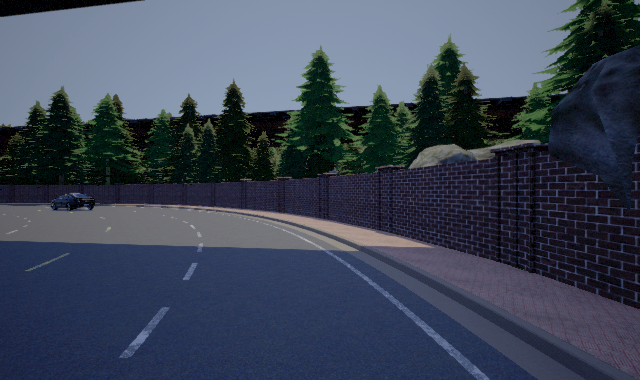vehicle: (51, 194, 95, 211)
